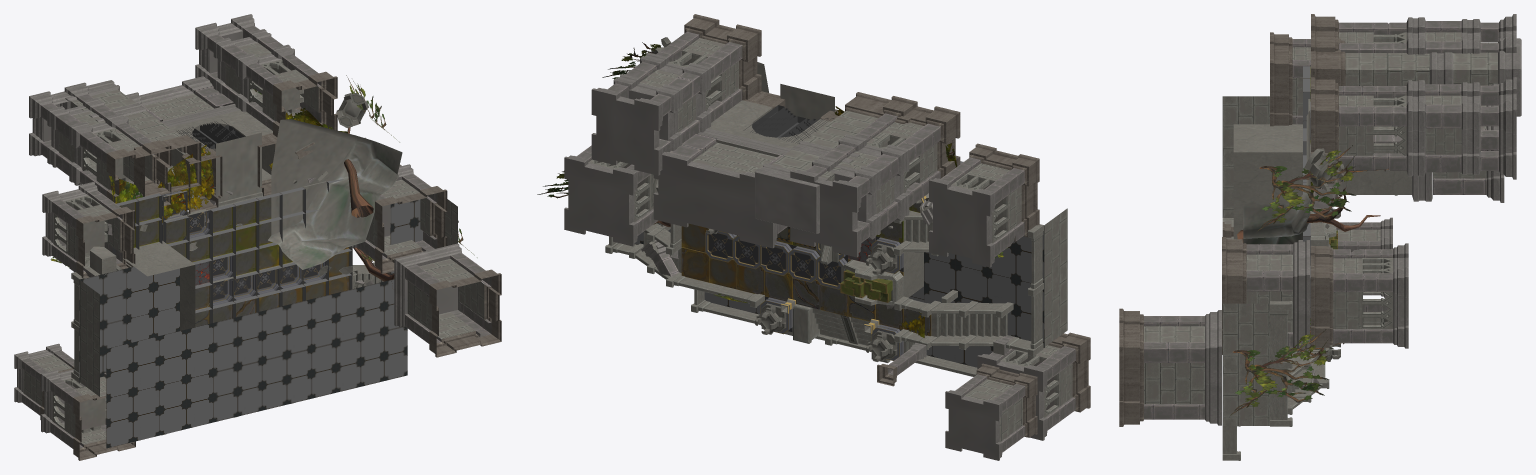
Rendered from BATTLE.fbx.
The picture shows the model from 3 angles, left to right: view 1: azimuth 30°, elevation 25°; view 2: azimuth 150°, elevation 25°; view 3: azimuth 270°, elevation 25°; orthographic projection. The views are drawn at different scales.
Parts seen in each view (by area): view 1: S_Outworld_outside_07, S_playground, S_Outworld_outside_06, S_Outworld_building_05, S_Outworld_building_16, S_Outworld_building_21, S_Outworld_building_22, S_Outworld_building_10, S_Outworld_wall02_09, S_Outworld_building_19, S_Outworld_building_18, S_Outworld_building_09 (+6 smaller); view 2: S_Outworld_building_05, S_Outworld_building_21, S_playground, S_Outworld_building_22, S_Outworld_building_08, S_Outworld_outside_07, S_Outworld_building_09, S_Outworld_building_14, S_Outworld_building_20, S_Outworld_building_18, S_Outworld_building_10, S_Outworld_wall02_09 (+18 smaller); view 3: S_Outworld_building_05, S_Outworld_wall02_09, S_Outworld_building_16, S_Outworld_building_20, S_Outworld_building_09, S_Outworld_building_21, S_Outworld_building_19, S_Outworld_zhiwu_3, S_Outworld_building_22, S_Outworld_outside_06, S_Outworld_building_10, S_Outworld_building_08 (+9 smaller).
Boxes of the visible parts, left/top/right/bottom form: S_Outworld_outside_07: left=79, top=199, right=429, bottom=448; S_playground: left=112, top=179, right=352, bottom=326; S_Outworld_outside_06: left=268, top=119, right=402, bottom=269; S_Outworld_building_05: left=195, top=14, right=337, bottom=136; S_Outworld_building_16: left=394, top=243, right=501, bottom=357; S_Outworld_building_21: left=29, top=82, right=171, bottom=206; S_Outworld_building_22: left=42, top=182, right=135, bottom=279; S_Outworld_building_10: left=161, top=104, right=277, bottom=213; S_Outworld_wall02_09: left=80, top=199, right=457, bottom=396; S_Outworld_building_19: left=350, top=164, right=447, bottom=273; S_Outworld_building_18: left=41, top=369, right=135, bottom=460; S_Outworld_building_09: left=60, top=80, right=201, bottom=196; S_Outworld_building_05: left=591, top=14, right=761, bottom=175; S_Outworld_building_21: left=790, top=96, right=960, bottom=257; S_playground: left=681, top=161, right=963, bottom=360; S_Outworld_building_22: left=929, top=143, right=1039, bottom=267; S_Outworld_building_08: left=653, top=133, right=787, bottom=248; S_Outworld_outside_07: left=634, top=223, right=1044, bottom=367; S_Outworld_building_09: left=755, top=92, right=922, bottom=233; S_Outworld_building_14: left=945, top=363, right=1037, bottom=460; S_Outworld_building_20: left=564, top=145, right=658, bottom=246; S_Outworld_building_18: left=977, top=332, right=1090, bottom=440; S_Outworld_building_10: left=698, top=84, right=838, bottom=156; S_Outworld_wall02_09: left=635, top=208, right=1067, bottom=346; S_Outworld_building_05: left=1311, top=77, right=1516, bottom=179; S_Outworld_wall02_09: left=1222, top=96, right=1302, bottom=425; S_Outworld_building_16: left=1119, top=308, right=1221, bottom=426; S_Outworld_building_20: left=1310, top=243, right=1408, bottom=349; S_Outworld_building_09: left=1311, top=36, right=1521, bottom=116; S_Outworld_building_21: left=1311, top=14, right=1516, bottom=54; S_Outworld_building_19: left=1222, top=237, right=1309, bottom=354; S_Outworld_zhiwu_3: left=1230, top=145, right=1388, bottom=415; S_Outworld_building_22: left=1270, top=32, right=1310, bottom=126; S_Outworld_outside_06: left=1243, top=110, right=1310, bottom=244; S_Outworld_building_10: left=1335, top=169, right=1432, bottom=201; S_Outworld_building_08: left=1433, top=83, right=1504, bottom=202.
Size of what is drawn, in the model's own units: 0.1825 by 0.1171 by 0.126.
